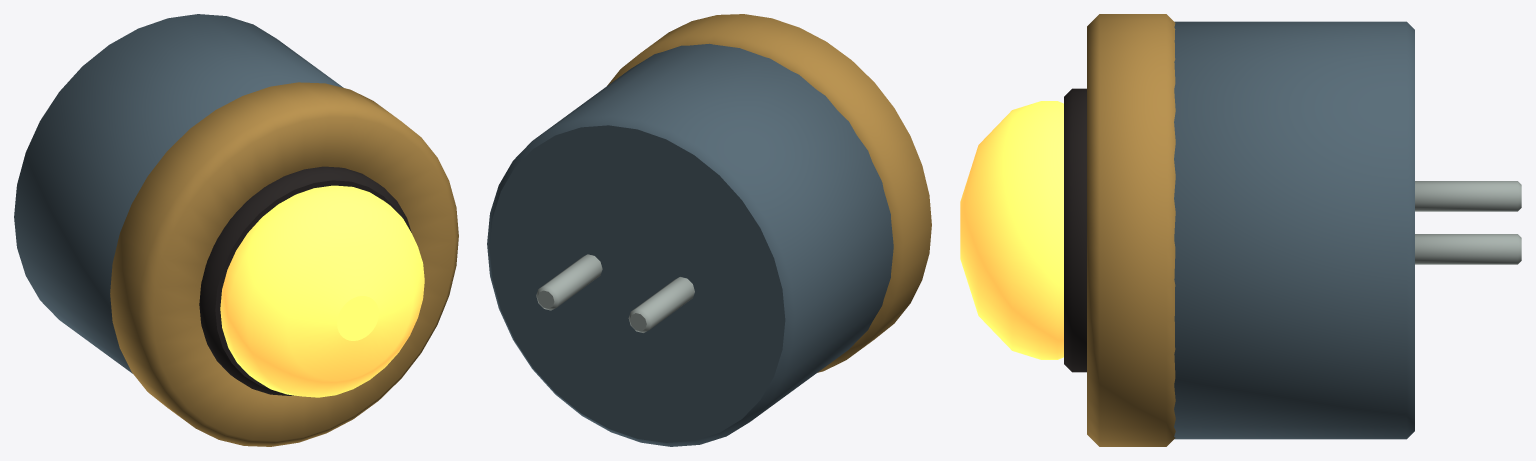
Rendered from SectorLamp_Amber.fbx.
3 views of the same model, side by side, from view 1: azimuth 30°, elevation 25°; view 2: azimuth 150°, elevation 25°; view 3: azimuth 270°, elevation 25° (orthographic). The views are drawn at different scales.
Parts seen in each view (by area): view 1: Retaining ring.001, Socket shell.001, Replaceable lens.001, Lens seat.001; view 2: Socket shell.001, Retaining ring.001, Terminal.003, Terminal.002; view 3: Socket shell.001, Retaining ring.001, Replaceable lens.001, Lens seat.001, Terminal.002, Terminal.003.
Boxes of the visible parts, bbox=[...] form: Retaining ring.001: bbox=[110, 82, 458, 446]; Socket shell.001: bbox=[14, 14, 343, 373]; Replaceable lens.001: bbox=[220, 185, 424, 397]; Lens seat.001: bbox=[199, 166, 411, 395]; Socket shell.001: bbox=[487, 43, 893, 446]; Retaining ring.001: bbox=[607, 14, 931, 372]; Terminal.003: bbox=[536, 254, 602, 310]; Terminal.002: bbox=[628, 277, 694, 332]; Socket shell.001: bbox=[1174, 21, 1414, 439]; Retaining ring.001: bbox=[1087, 14, 1175, 446]; Replaceable lens.001: bbox=[960, 101, 1063, 359]; Lens seat.001: bbox=[1064, 88, 1086, 372]; Terminal.002: bbox=[1415, 181, 1521, 211]; Terminal.003: bbox=[1415, 234, 1521, 264].
Bounding box in the file's own units: 0.104 × 0.104 × 0.1343.
